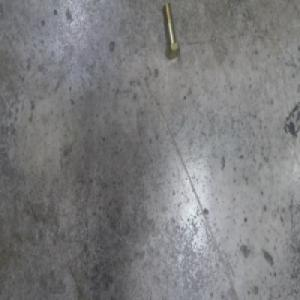Bolt: (160, 6, 178, 63)
